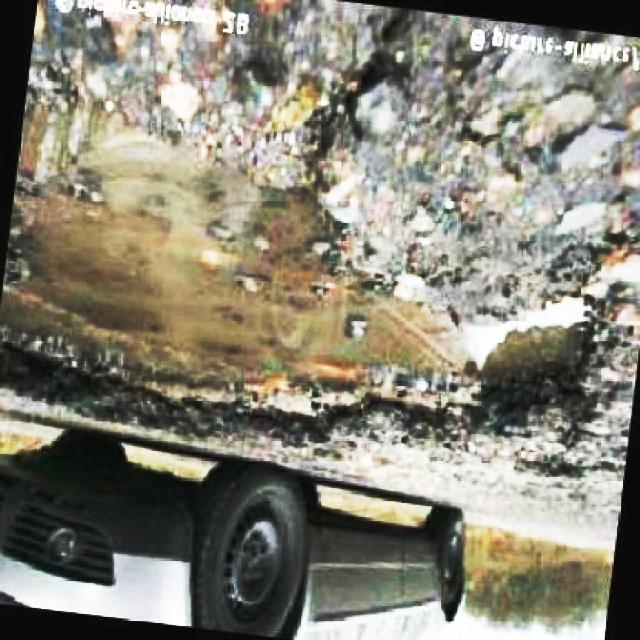pothole: (0, 77, 603, 532)
